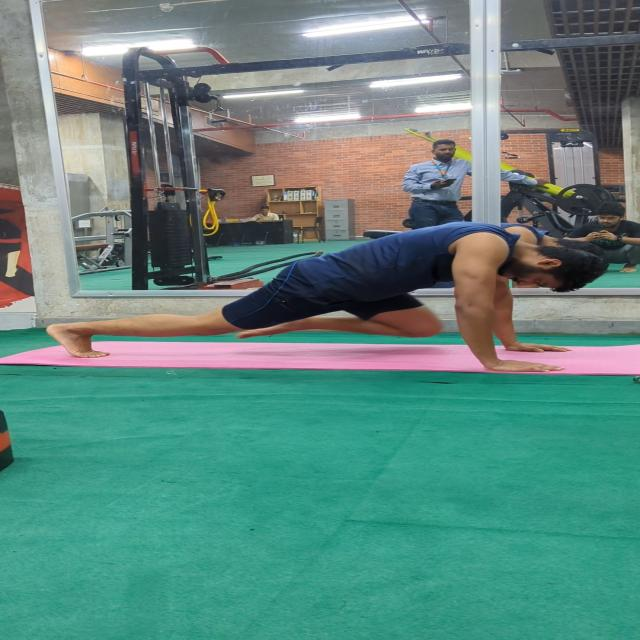Normal_MountainClimbers: (44, 206, 620, 384)
